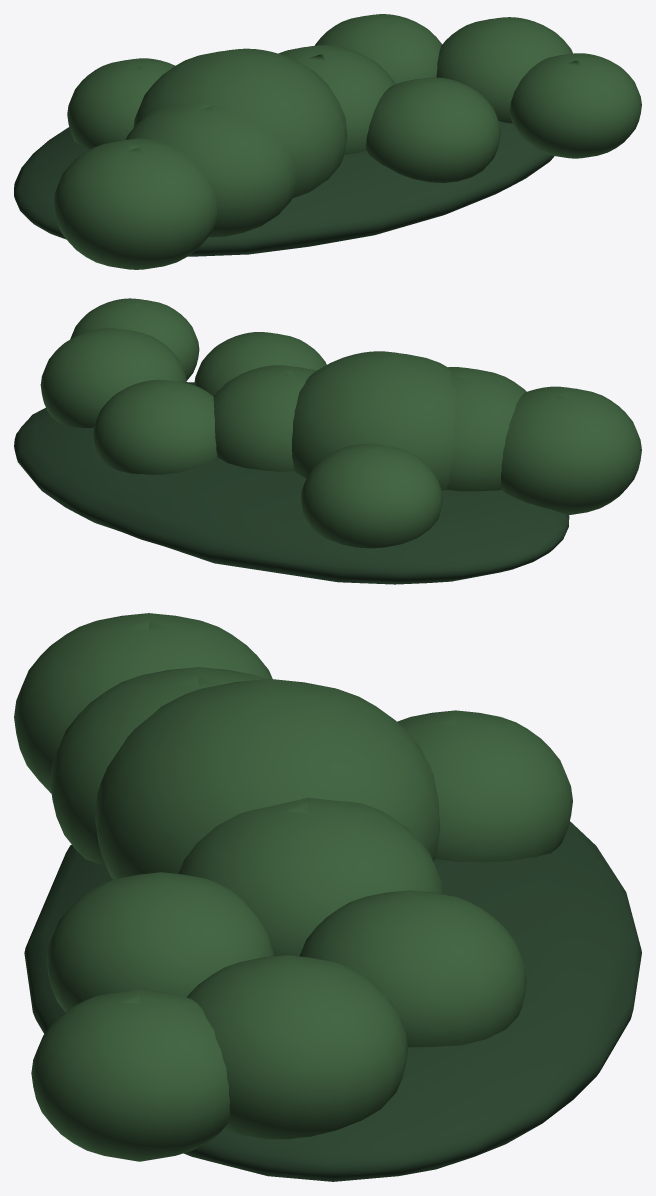
File: f11-hillside-wooded.glb
3 views of the same model, one above another, from view 1: azimuth 30°, elevation 25°; view 2: azimuth 150°, elevation 25°; view 3: azimuth 270°, elevation 25° (orthographic). The views are drawn at different scales.
Visible parts, largest first — view 1: part9, part0, part7, part8, part1, part5, part6, part2, part3, part4; view 2: part9, part7, part0, part2, part3, part6, part4, part8, part1, part5; view 3: part9, part7, part6, part5, part4, part3, part1, part2, part0, part8.
Part boxes in pixels (x1,y1,x2,y2): part9: (14, 121, 554, 256); part0: (53, 138, 217, 269); part7: (133, 48, 347, 198); part8: (126, 102, 297, 237); part1: (366, 77, 500, 182); part5: (510, 53, 641, 158); part6: (436, 17, 572, 123); part2: (67, 58, 174, 149); part3: (315, 14, 442, 84); part4: (278, 45, 395, 154); part9: (14, 382, 569, 584); part7: (292, 351, 456, 490); part0: (501, 386, 641, 515); part2: (300, 443, 442, 548); part3: (93, 379, 217, 474); part6: (40, 328, 186, 427); part4: (213, 365, 316, 471); part8: (447, 367, 526, 491); part1: (194, 332, 326, 396); part5: (70, 298, 199, 380); part9: (24, 821, 641, 1181); part7: (95, 678, 440, 879); part6: (186, 955, 407, 1139); part5: (31, 989, 229, 1161); part4: (178, 797, 443, 956); part3: (299, 890, 526, 1047); part1: (46, 872, 273, 1011); part2: (397, 710, 572, 862); part0: (14, 613, 272, 793); part8: (50, 667, 265, 865).
Size of the model in its own units: 89361 by 24941 by 52832.
